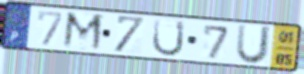7: (113, 14, 147, 54), (35, 9, 64, 48), (202, 24, 231, 60)
M: (60, 10, 106, 54)
U: (233, 23, 274, 67), (150, 17, 187, 58)
